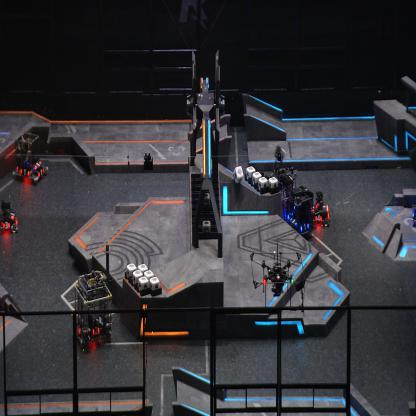car: (74, 271, 114, 349), (12, 131, 49, 186), (269, 167, 298, 221), (288, 184, 316, 235), (308, 191, 330, 228), (0, 197, 19, 233)
